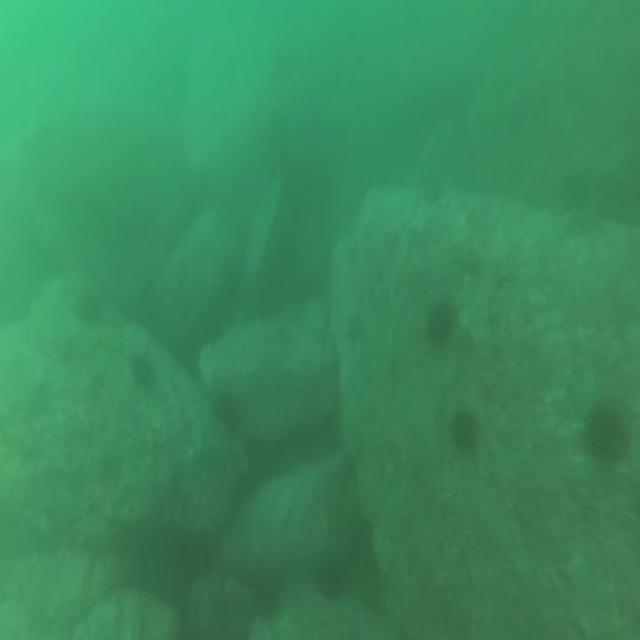echinus: (582, 397, 633, 471), (423, 292, 460, 352), (207, 387, 243, 439), (448, 406, 482, 458), (314, 558, 346, 608), (126, 349, 158, 394), (72, 289, 106, 327)
starfish: (342, 302, 367, 354)
